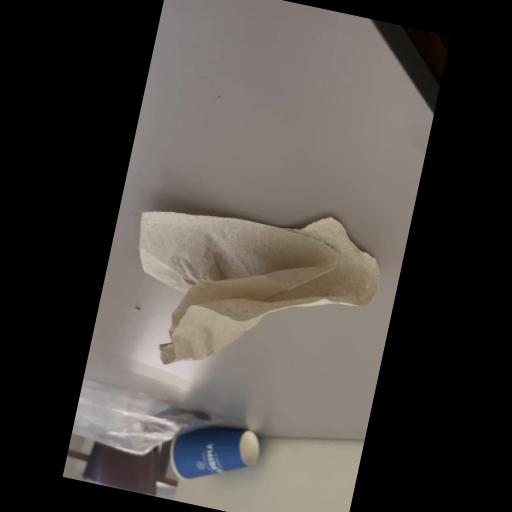napkin: (116, 181, 394, 404)
